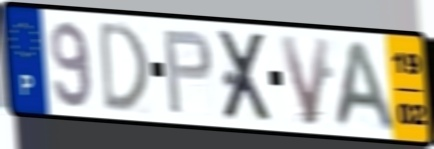9: (47, 18, 94, 110)
A: (331, 38, 401, 135)
D: (97, 18, 151, 115)
P: (161, 28, 216, 117)
V: (276, 33, 333, 129)
X: (216, 28, 276, 124)
